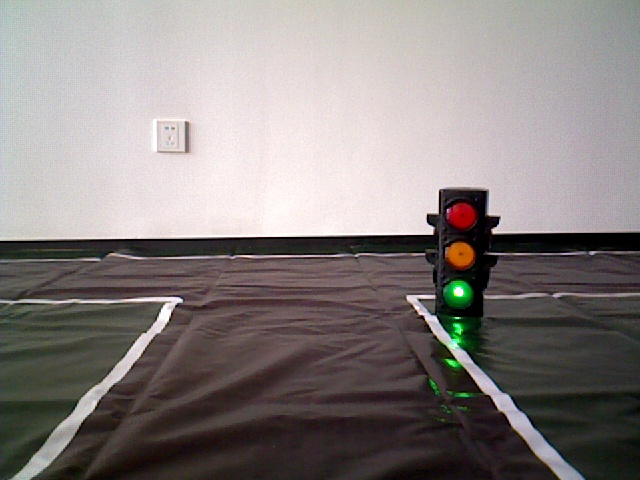green: (437, 191, 485, 310)
